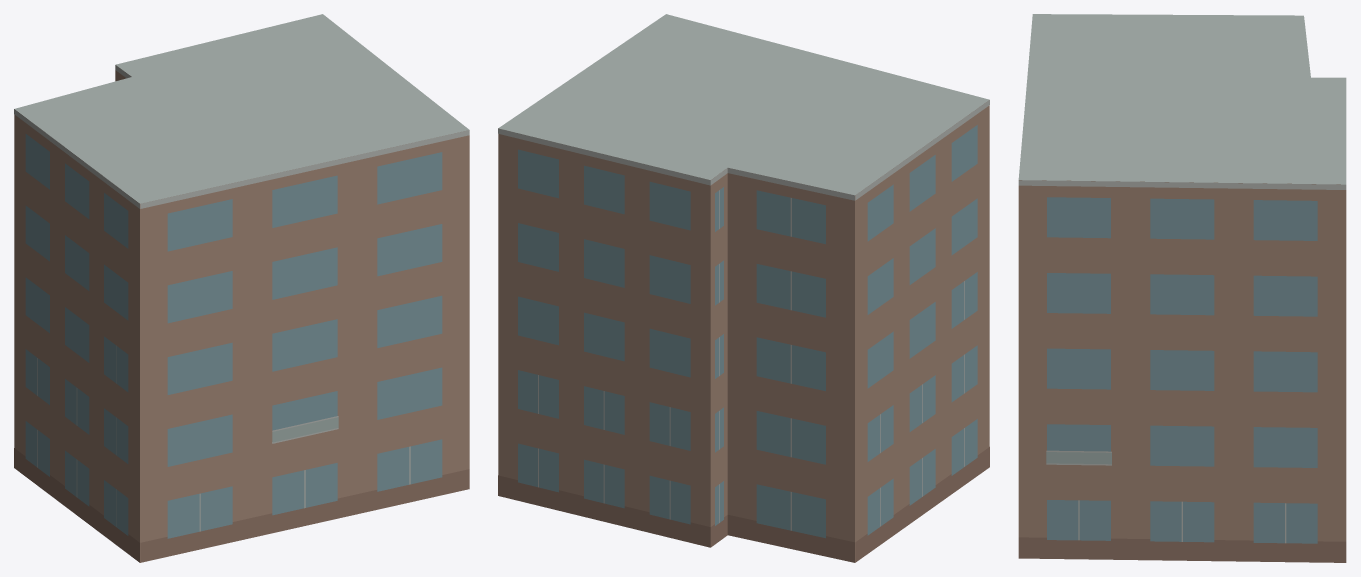
File: survey-upis-32976762.glb
3 renders of one model, left to right at view 1: azimuth 30°, elevation 25°; view 2: azimuth 150°, elevation 25°; view 3: azimuth 270°, elevation 25°, orthographic. The views are drawn at different scales.
Visible parts, largest first — view 1: survey-upis-32976762.tmp; view 2: survey-upis-32976762.tmp; view 3: survey-upis-32976762.tmp.
Boxes of the visible parts, x1,y1,x2,y2 form: survey-upis-32976762.tmp: [14, 14, 469, 562]; survey-upis-32976762.tmp: [498, 14, 989, 562]; survey-upis-32976762.tmp: [1018, 14, 1346, 562].
Size of the model in its own units: 16.05 by 16.6 by 13.04.
